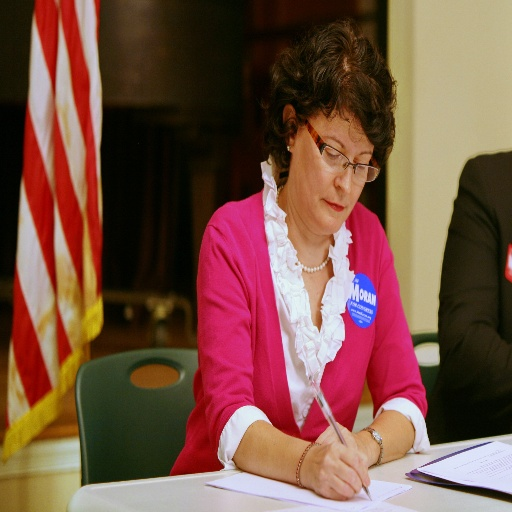hand: (313, 422, 369, 472)
